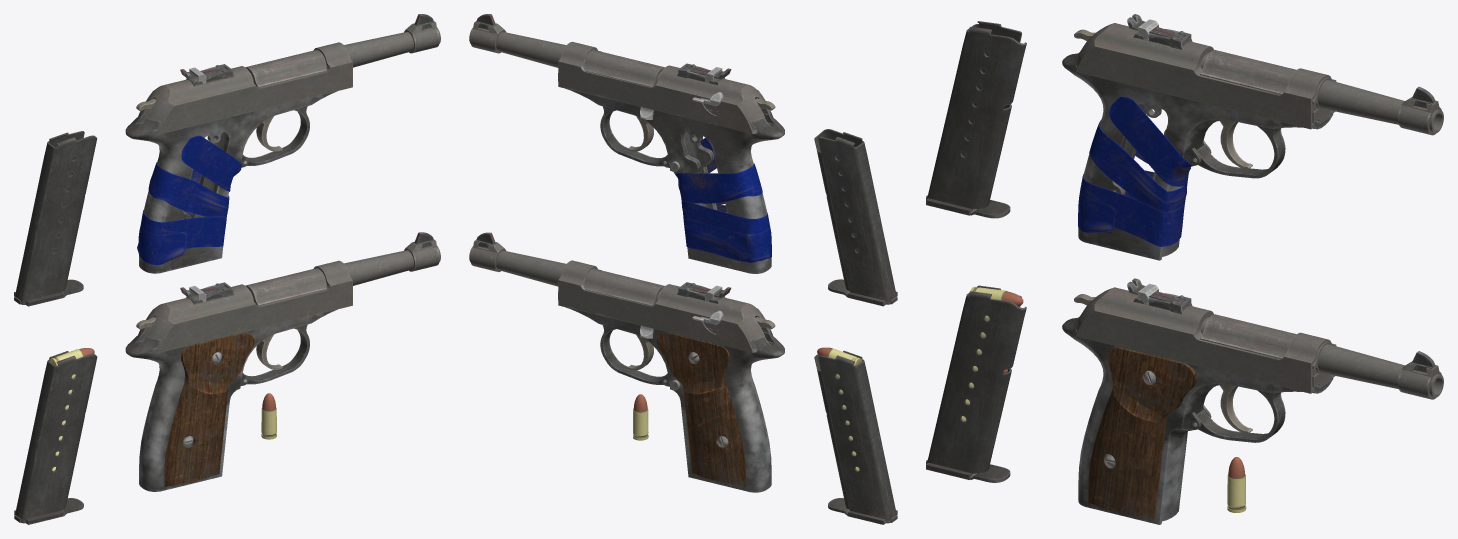
The model's file is player-pbr-service-pistol.glb.
3 renders of one model, left to right at view 1: azimuth 30°, elevation 25°; view 2: azimuth 150°, elevation 25°; view 3: azimuth 330°, elevation 25°, orthographic. The views are drawn at different scales.
Parts seen in each view (by area): view 1: service_pistol_pistol_b, service_pistol_pistol_a, service_pistol_magazine_loaded, service_pistol_magazine_empty, service_pistol_slide_a, service_pistol_slide_b, service_pistol_bullet; view 2: service_pistol_pistol_b, service_pistol_pistol_a, service_pistol_magazine_loaded, service_pistol_magazine_empty, service_pistol_slide_a, service_pistol_slide_b, service_pistol_bullet; view 3: service_pistol_pistol_a, service_pistol_pistol_b, service_pistol_magazine_loaded, service_pistol_magazine_empty, service_pistol_slide_b, service_pistol_slide_a, service_pistol_bullet, service_pistol_trigger_b, service_pistol_trigger_a.
Boxes of the visible parts, bbox=[...] form: service_pistol_pistol_b: bbox=[125, 14, 440, 273]; service_pistol_pistol_a: bbox=[125, 232, 440, 491]; service_pistol_magazine_loaded: bbox=[14, 348, 97, 524]; service_pistol_magazine_empty: bbox=[14, 131, 97, 306]; service_pistol_slide_a: bbox=[141, 260, 352, 352]; service_pistol_slide_b: bbox=[141, 42, 352, 134]; service_pistol_bullet: bbox=[261, 393, 276, 439]; service_pistol_pistol_b: bbox=[469, 14, 784, 273]; service_pistol_pistol_a: bbox=[469, 232, 784, 492]; service_pistol_magazine_loaded: bbox=[814, 347, 897, 524]; service_pistol_magazine_empty: bbox=[814, 129, 897, 306]; service_pistol_slide_a: bbox=[558, 260, 772, 352]; service_pistol_slide_b: bbox=[558, 41, 772, 133]; service_pistol_bullet: bbox=[633, 394, 648, 440]; service_pistol_pistol_a: bbox=[1062, 314, 1443, 524]; service_pistol_pistol_b: bbox=[1062, 50, 1443, 260]; service_pistol_magazine_loaded: bbox=[926, 285, 1026, 482]; service_pistol_magazine_empty: bbox=[926, 21, 1026, 218]; service_pistol_slide_b: bbox=[1075, 14, 1336, 129]; service_pistol_slide_a: bbox=[1075, 278, 1336, 393]; service_pistol_bullet: bbox=[1227, 457, 1246, 512]; service_pistol_trigger_b: bbox=[1220, 120, 1252, 169]; service_pistol_trigger_a: bbox=[1220, 384, 1252, 433].
Bounding box in the file's own units: 0.3016 × 0.2807 × 0.0318.
Materials: 1 (1 with a texture image).
